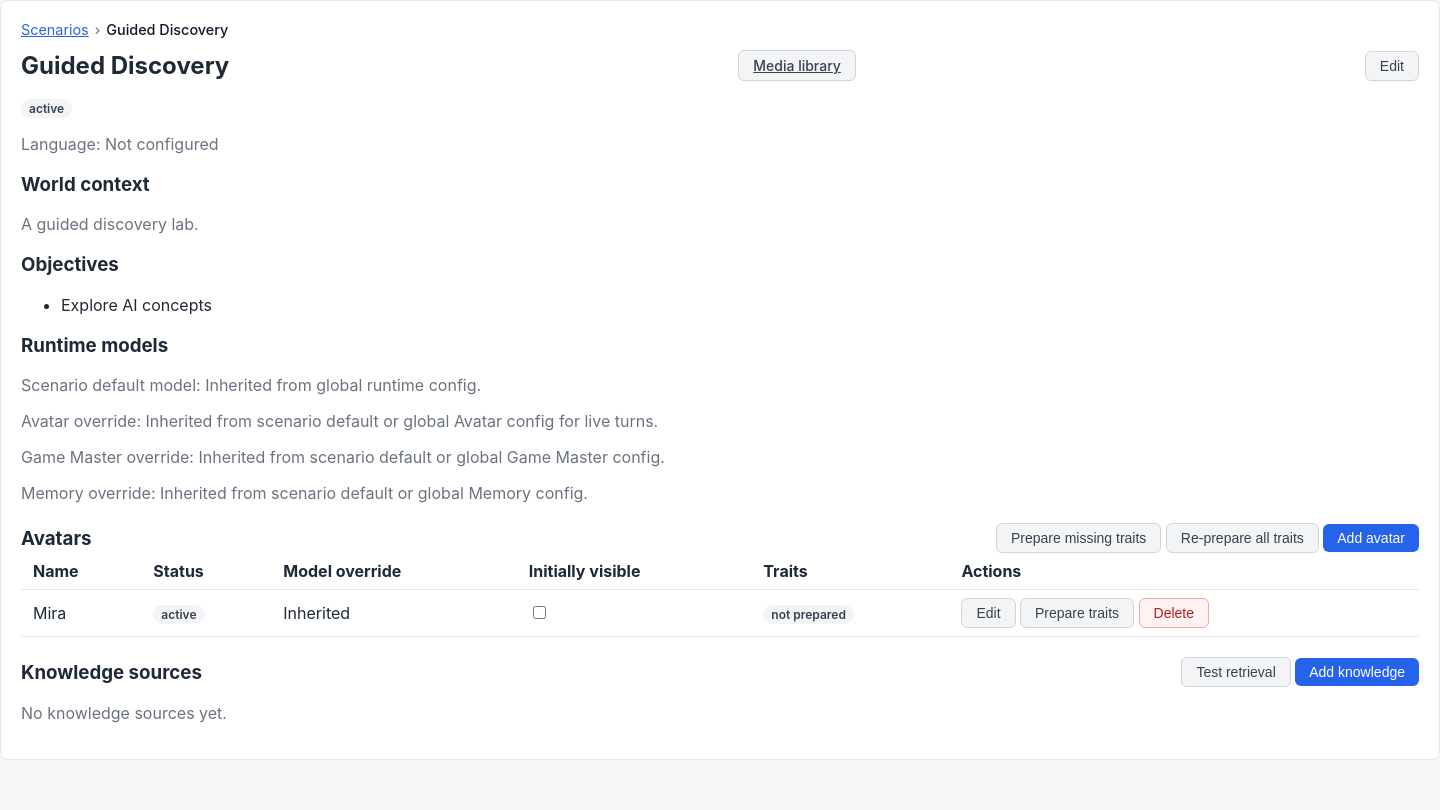
Test: ScenarioDetailPage targeted avatar trait preparation › prepares only the clicked avatar and names failed avatars with their reason
Expected: the heading "Guided Discovery" is shown, [21,51,229,80]
Click the button with aria-label "Prepare traits: Mira" at (1077, 613), box [1020,598,1134,628]
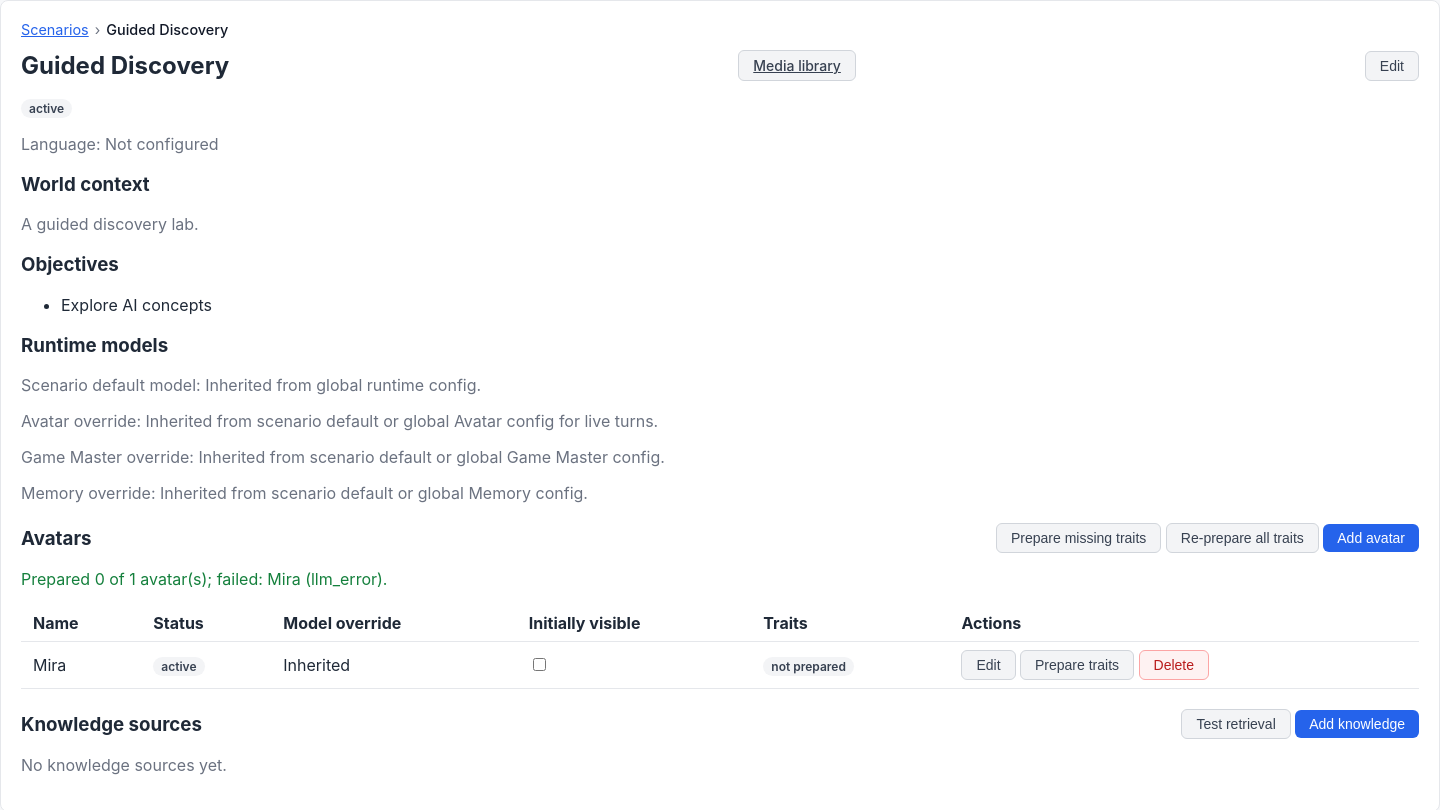
Now the text "Prepared 0 of 1 avatar(s); failed: Mira (llm_error)." is shown, box [21,569,388,589]
